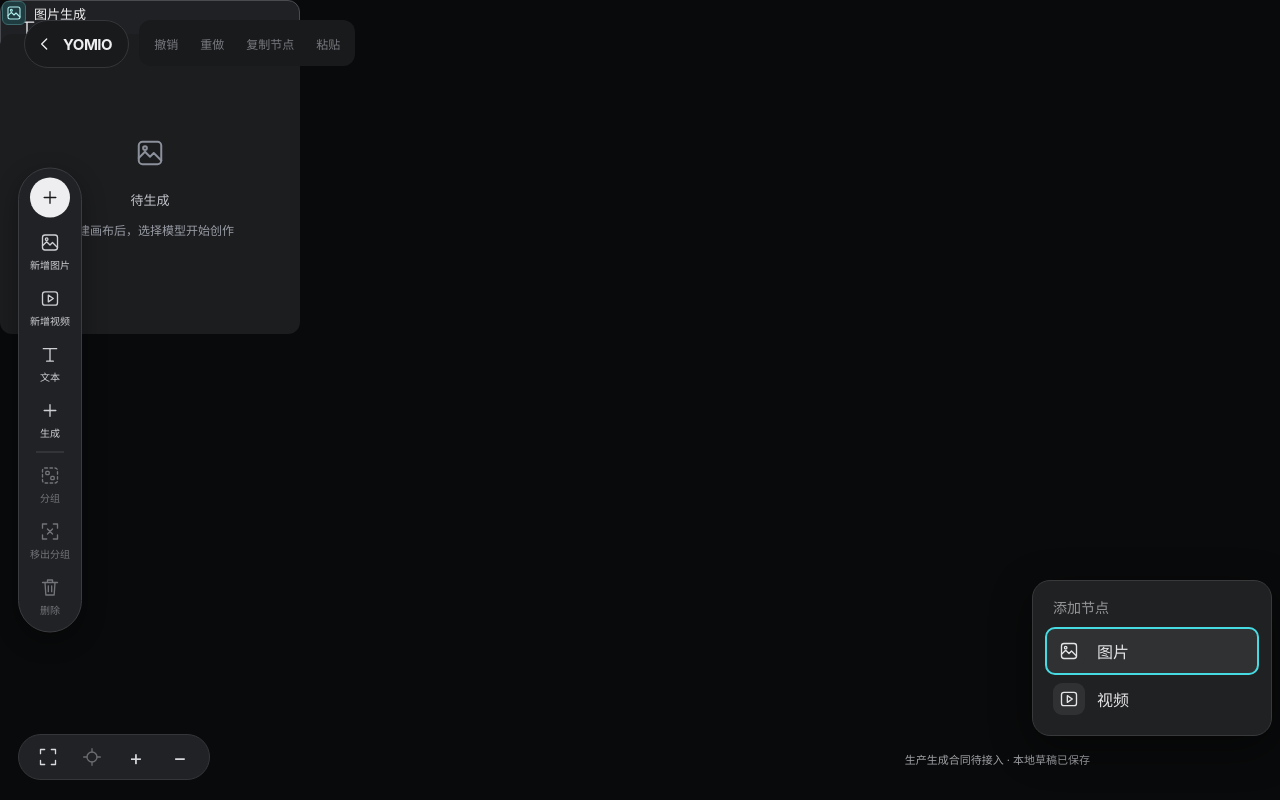
Test: CanvasWorkspace › 拖线菜单 Esc/空白取消无副作用，已有节点正常连接且不打开菜单
Press Escape
Press the mouse on the element that starts with "YOMIO": coordinates (640, 400) x1=0 y1=0 x2=1279 y2=799
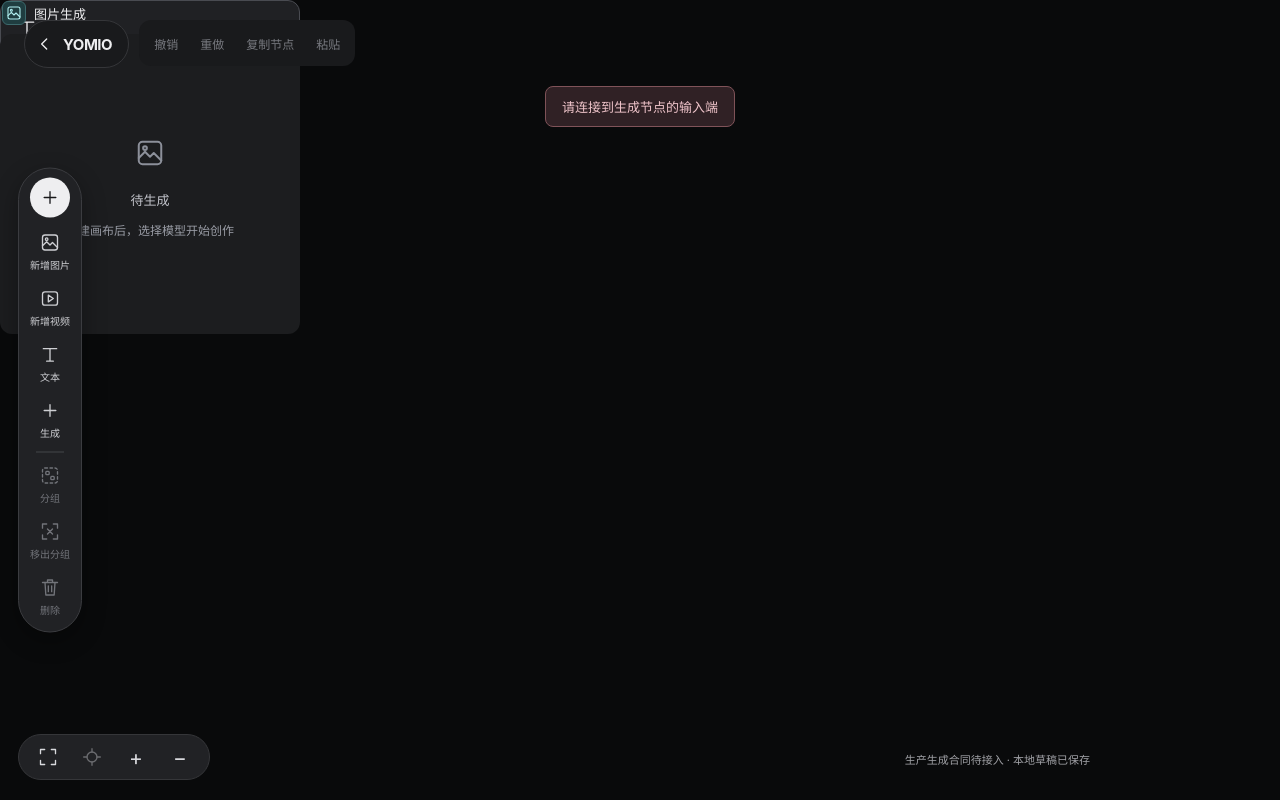
Expected: the menu is gone
